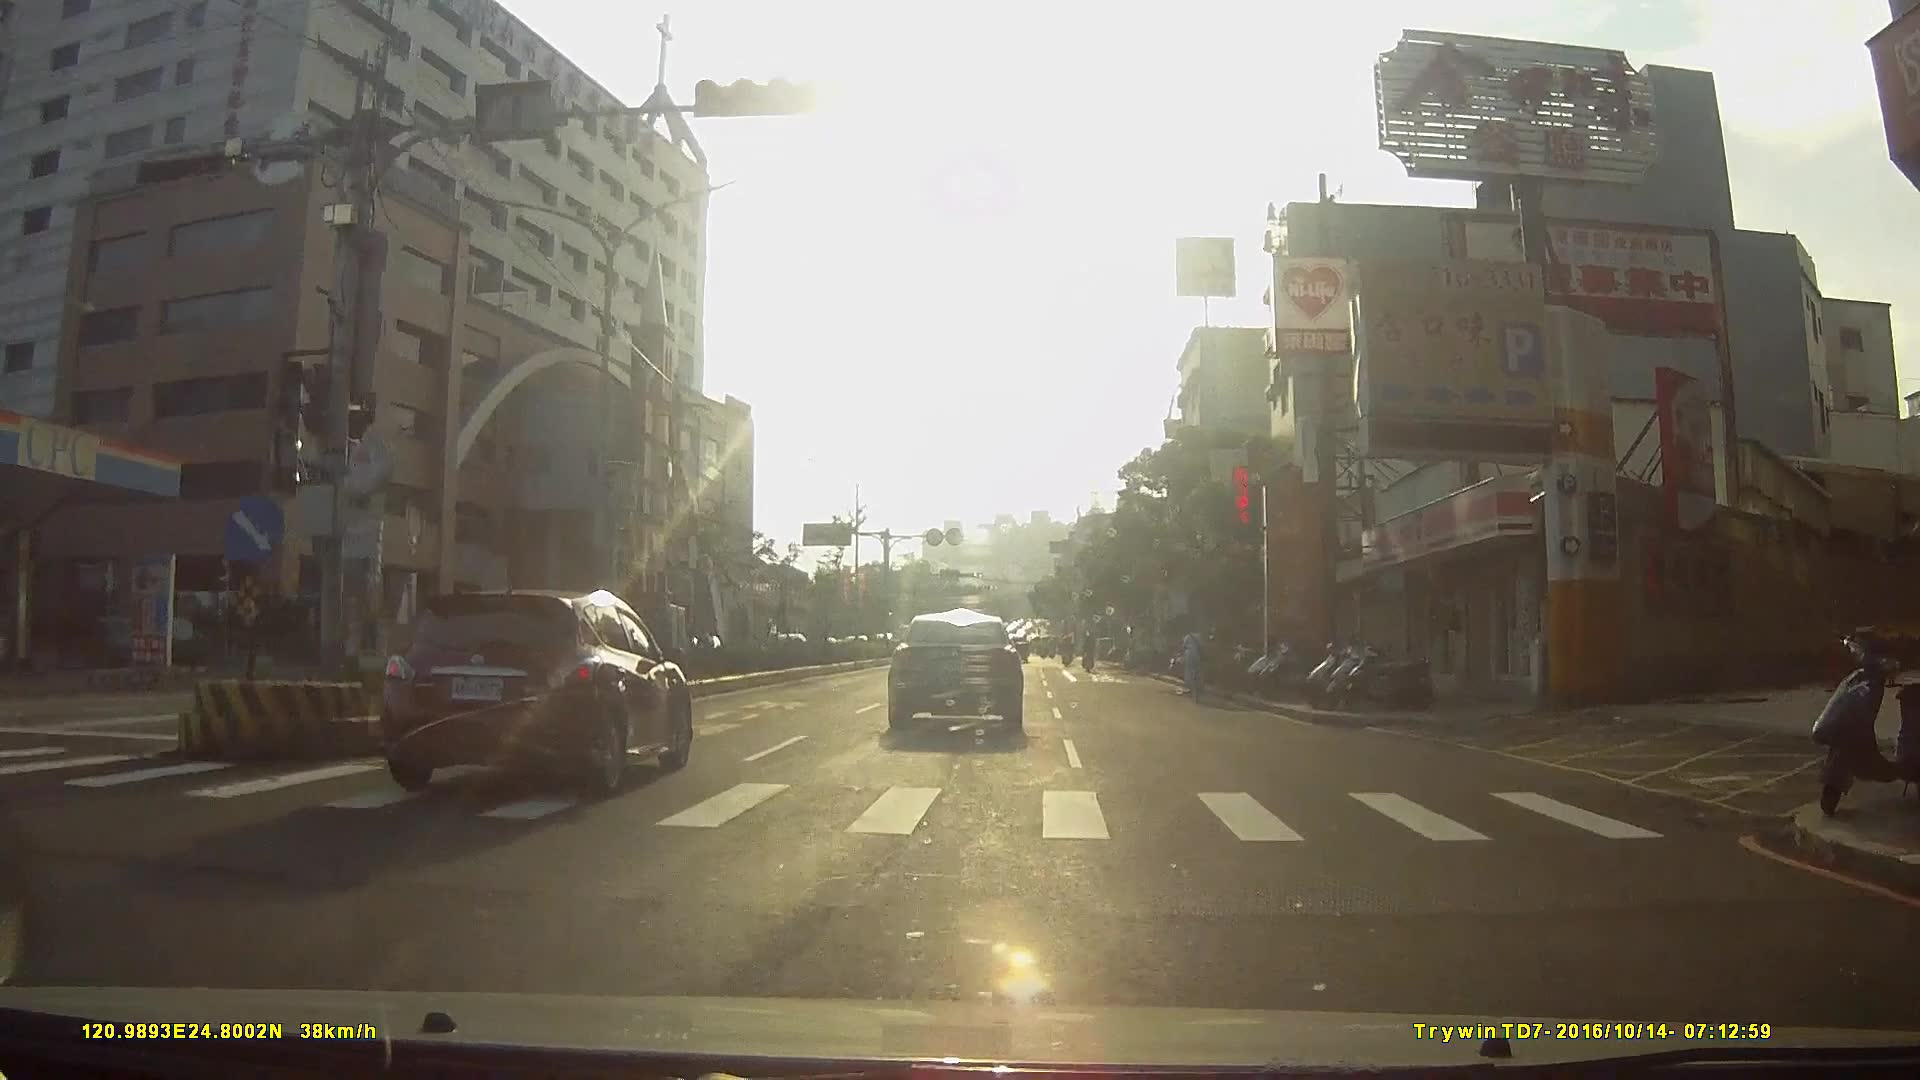rider: (1179, 619, 1211, 706)
vehicle: (369, 581, 704, 803), (885, 605, 1038, 740), (763, 607, 822, 662)
